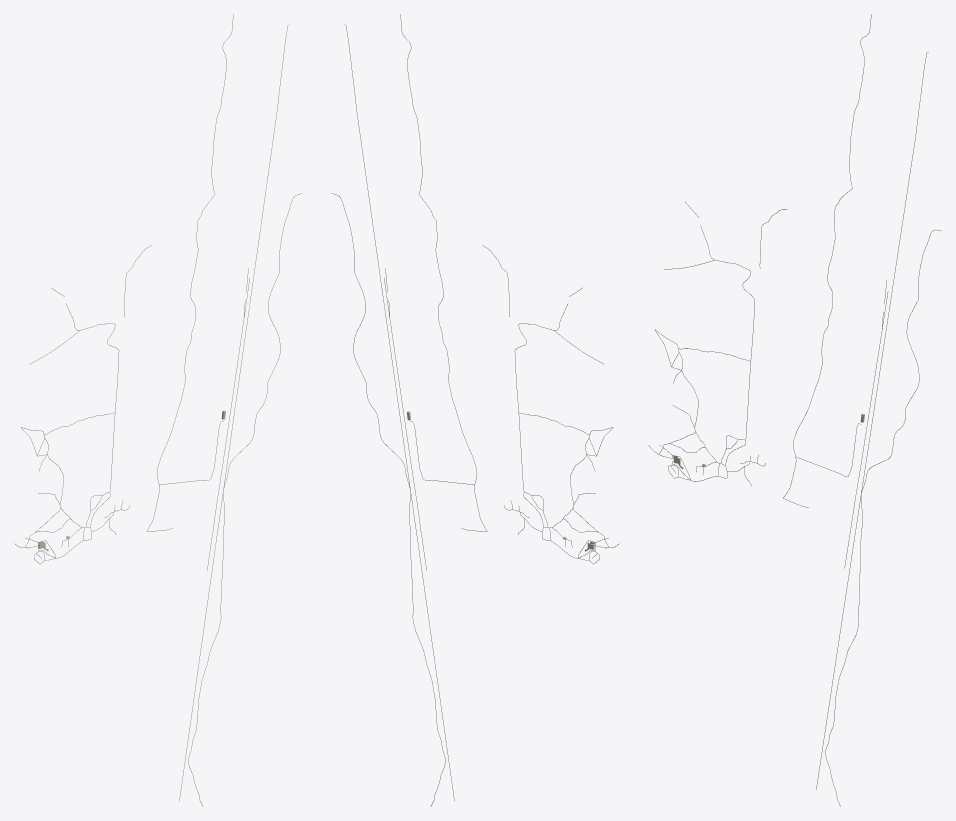
File: historic-palestine-07_32_3492_3262.glb
3 views of the same model, side by side, from view 1: azimuth 30°, elevation 25°; view 2: azimuth 150°, elevation 25°; view 3: azimuth 330°, elevation 25° (orthographic).
Visible parts, largest first — view 1: Road .010, Road .004, Road .005; view 2: Road .010, Road .004, Road .005; view 3: Road .010, Road .004.
Boxes of the visible parts, x1=… form: Road .010: x1=179, y1=24, x2=289, y2=801; Road .004: x1=188, y1=193, x2=302, y2=806; Road .005: x1=146, y1=14, x2=233, y2=531; Road .010: x1=344, y1=24, x2=454, y2=801; Road .004: x1=331, y1=193, x2=445, y2=806; Road .005: x1=400, y1=14, x2=487, y2=531; Road .010: x1=816, y1=52, x2=928, y2=789; Road .004: x1=825, y1=229, x2=941, y2=806.
Bounding box in the file's own units: 1111 × 2893 × 8.7.
